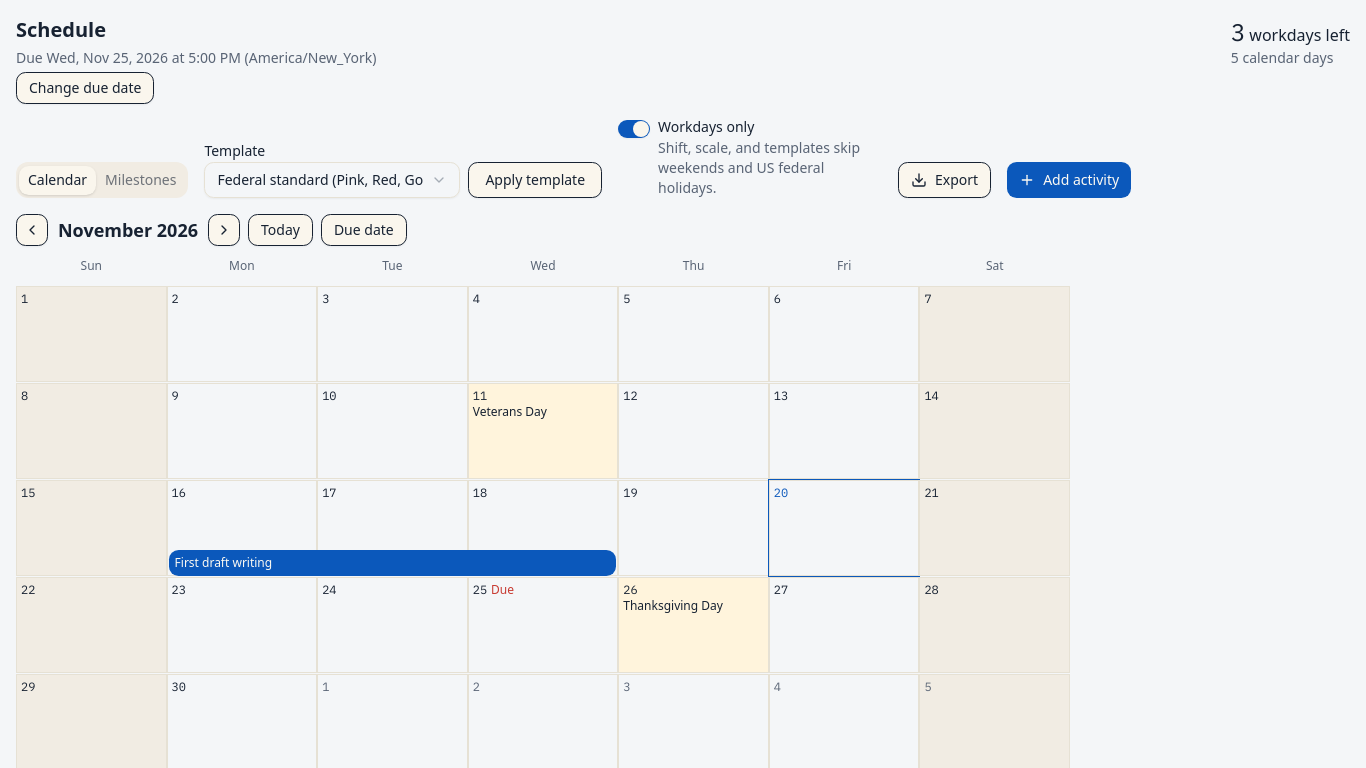
Test case: ScheduleContainer: actions › locks at once and ignores a second click while saving
This screenshot has width=1366, height=768.
Later steps or results of the test are not shown.
Step 1. Click the tab "Milestones" → (141,180), box top-left (96, 166), bottom-right (185, 194)
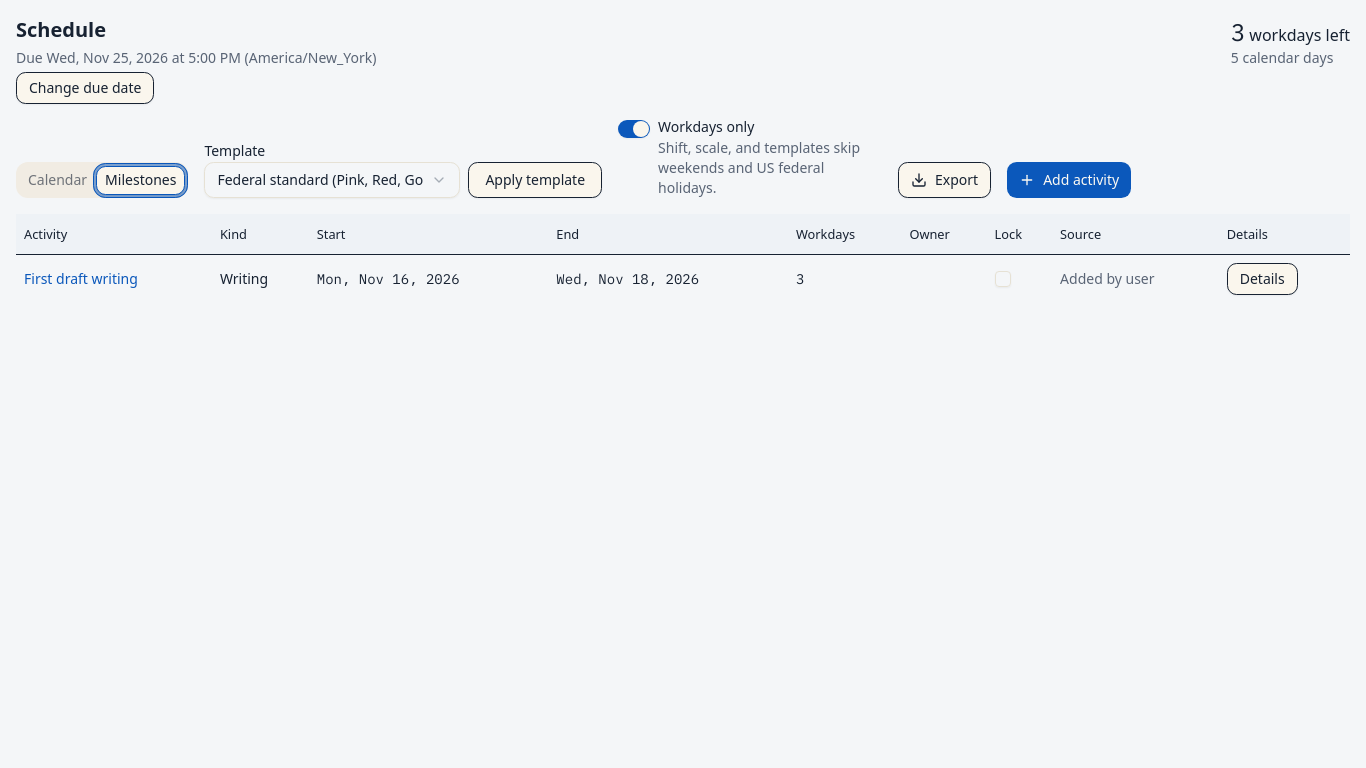
Step 2. Click the checkbox named "Lock First draft writing" → (1003,278), box top-left (995, 270), bottom-right (1011, 286)
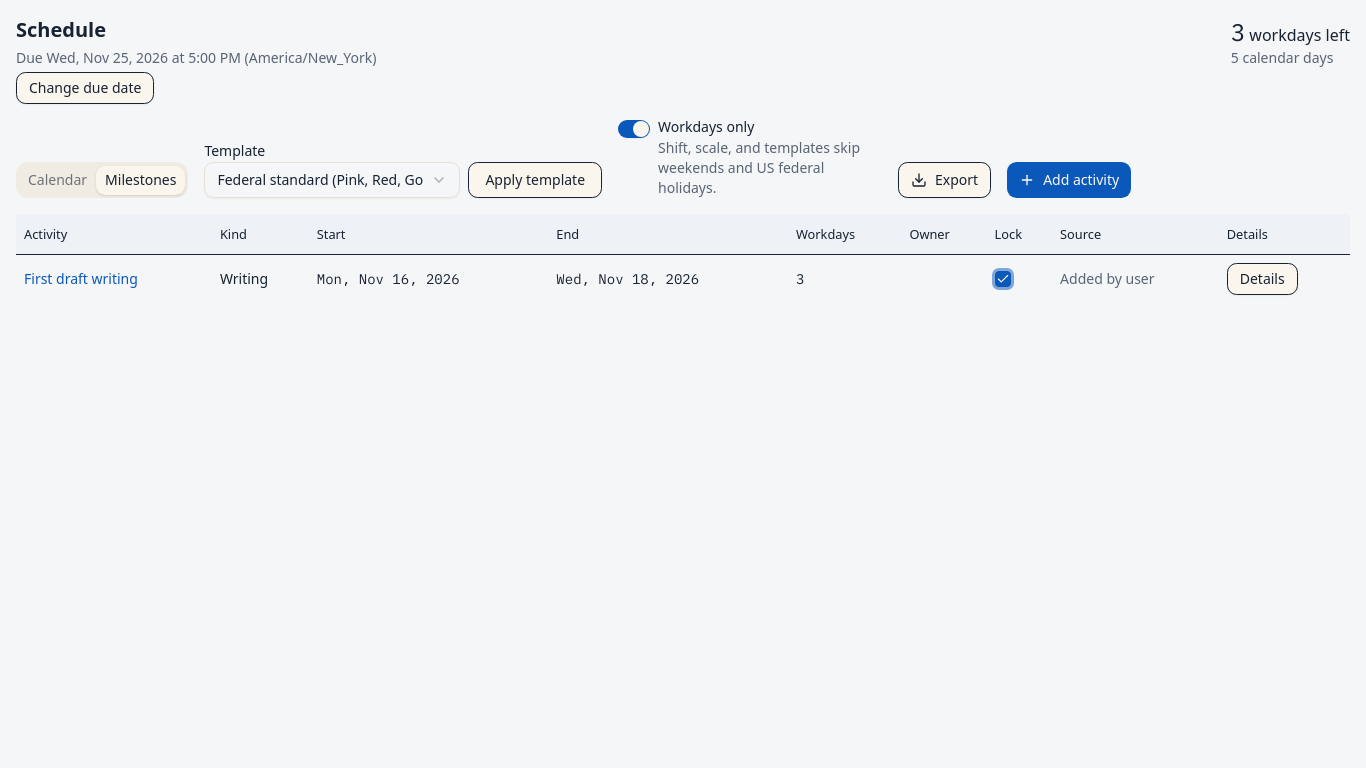
Expected: the checkbox named "Lock First draft writing" is checked, top-left (995, 270), bottom-right (1011, 286)
